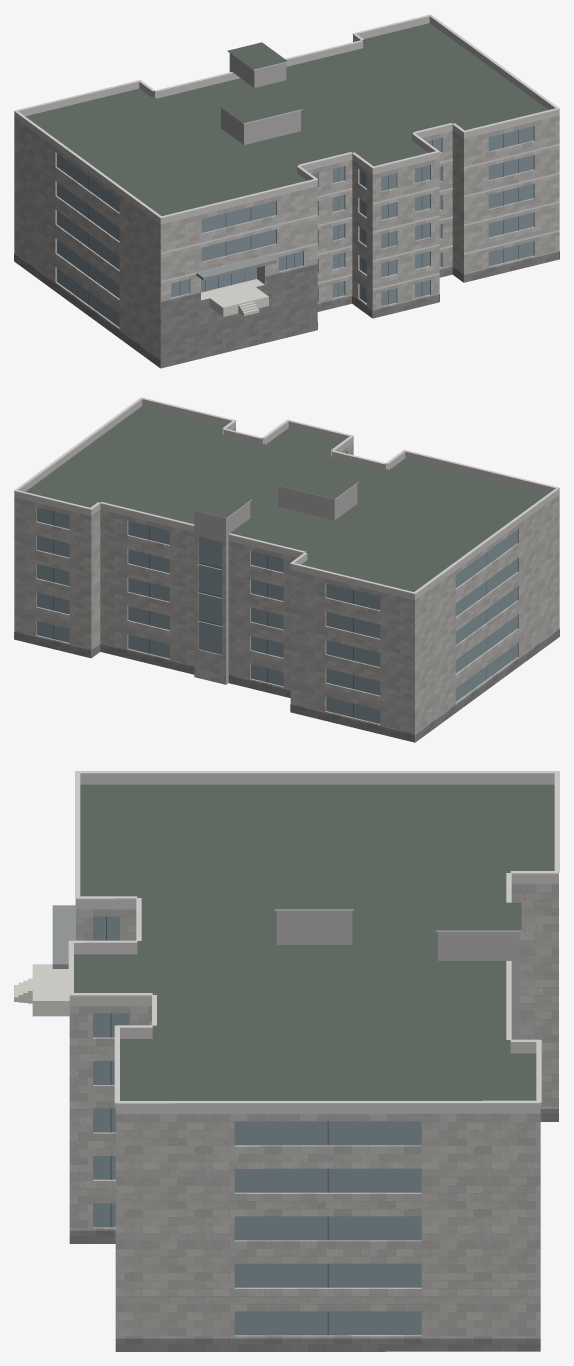
3 views of the same model, one above another, from view 1: azimuth 30°, elevation 25°; view 2: azimuth 150°, elevation 25°; view 3: azimuth 270°, elevation 25° (orthographic). The views are drawn at different scales.
Visible parts, largest first — view 1: b223__wall, b223__roof, b223__glass, b223__base, b223__parapet, b223__trim, b223__wall2, b223__entranceStair, b223__frame, b223__canopy; view 2: b223__wall, b223__roof, b223__glass, b223__parapet, b223__base, b223__trim, b223__wall2, b223__frame; view 3: b223__roof, b223__wall, b223__glass, b223__parapet, b223__trim, b223__base, b223__wall2, b223__entranceStair, b223__canopy.
Part boxes in pixels (x1,y1,x2,y2): b223__wall: [14, 41, 559, 367]; b223__roof: [25, 23, 547, 367]; b223__glass: [57, 126, 533, 327]; b223__base: [14, 251, 559, 368]; b223__parapet: [14, 16, 559, 224]; b223__trim: [14, 14, 559, 290]; b223__wall2: [221, 53, 300, 144]; b223__entranceStair: [201, 279, 268, 316]; b223__frame: [88, 130, 518, 304]; b223__canopy: [196, 255, 276, 280]; b223__wall: [14, 427, 559, 742]; b223__roof: [25, 406, 548, 591]; b223__glass: [36, 452, 517, 723]; b223__parapet: [14, 399, 559, 600]; b223__base: [14, 629, 559, 742]; b223__trim: [14, 397, 559, 594]; b223__wall2: [194, 484, 357, 684]; b223__frame: [53, 511, 486, 717]; b223__roof: [74, 784, 554, 1351]; b223__wall: [69, 884, 558, 1338]; b223__glass: [93, 916, 421, 1335]; b223__parapet: [69, 773, 558, 1114]; b223__trim: [68, 771, 559, 1104]; b223__base: [69, 1109, 558, 1351]; b223__wall2: [276, 910, 519, 1039]; b223__entranceStair: [14, 964, 69, 1016]; b223__canopy: [52, 905, 75, 968].
Bounding box in the file's own units: 54 × 21.29 × 37.52.
11 materials, 2 textured.
